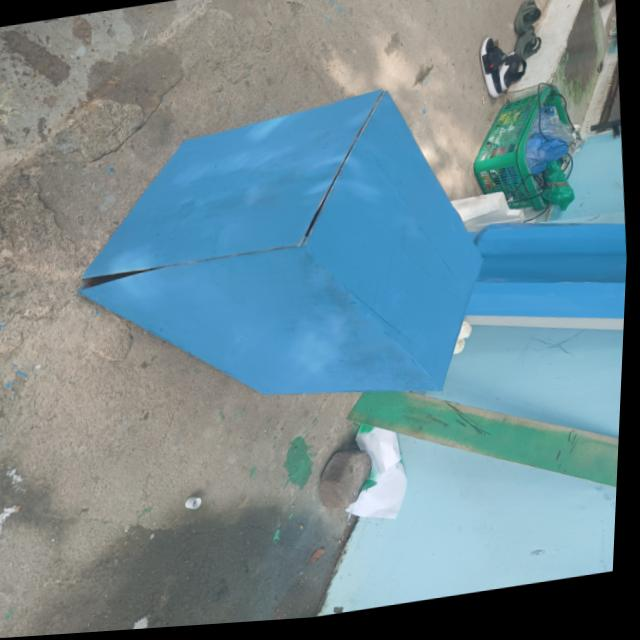blue_box: (83, 76, 505, 444)
